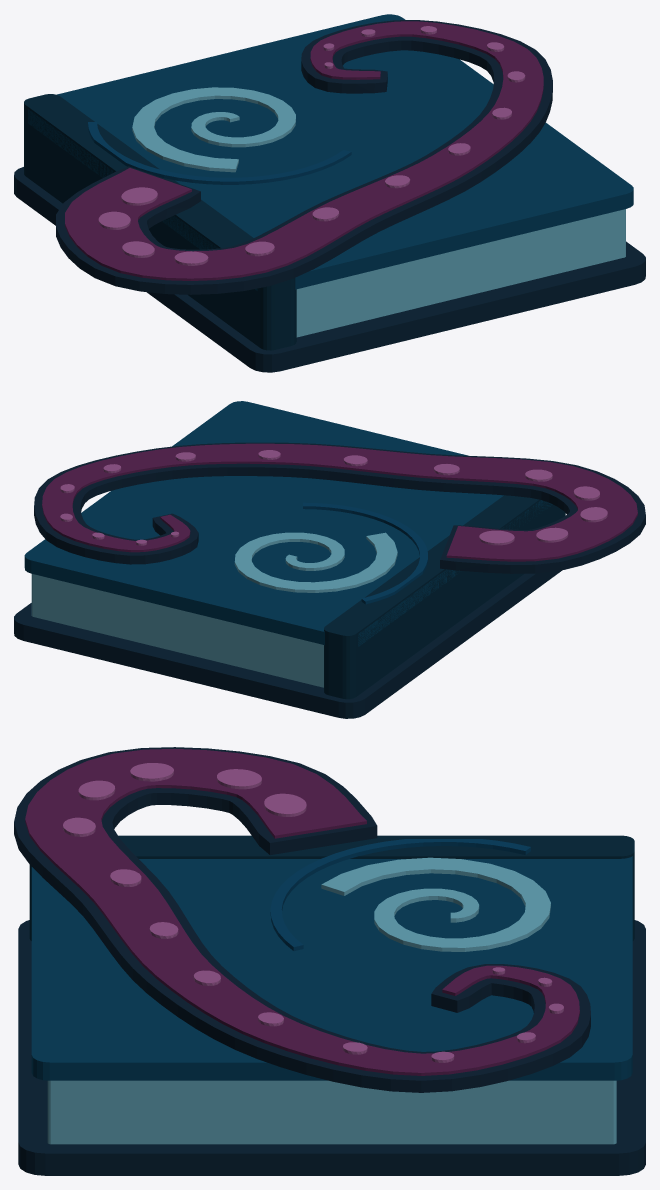
The model's file is book_tentaculo.fbx.
3 views of the same model, one above another, from view 1: azimuth 30°, elevation 25°; view 2: azimuth 150°, elevation 25°; view 3: azimuth 270°, elevation 25° (orthographic). The views are drawn at different scales.
Parts seen in each view (by area): view 1: book_tentaculo_livro; view 2: book_tentaculo_livro; view 3: book_tentaculo_livro.
Part boxes in pixels (box(x1,y1,x2,y2)): book_tentaculo_livro: box(14, 14, 645, 372); book_tentaculo_livro: box(14, 401, 645, 718); book_tentaculo_livro: box(14, 747, 645, 1175).
Bounding box in the file's own units: 3.52 × 0.632 × 2.82.
Materials: 1 (1 with a texture image).
